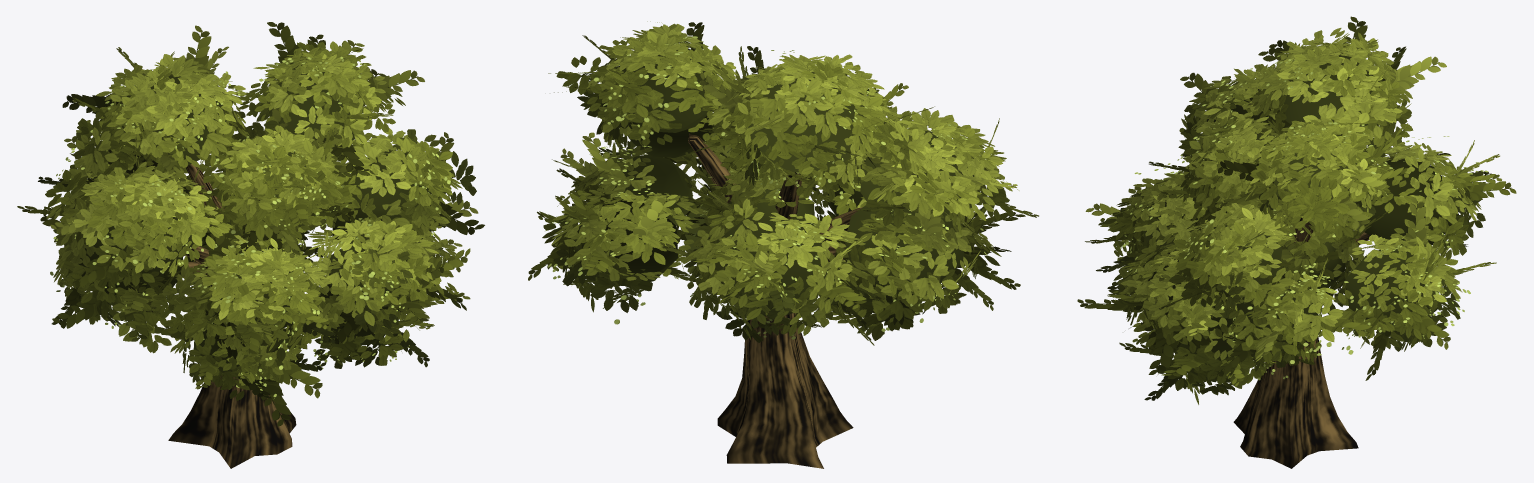
Rendered from AraTree06.glb.
3 views of the same model, side by side, from view 1: azimuth 30°, elevation 25°; view 2: azimuth 150°, elevation 25°; view 3: azimuth 270°, elevation 25° (orthographic). The views are drawn at different scales.
Visible parts, largest first — view 1: AraTree06_leaves; view 2: AraTree06_leaves; view 3: AraTree06_leaves.
Boxes of the visible parts, box(x1,y1,x2,y2) form: AraTree06_leaves: box(17, 22, 484, 468); AraTree06_leaves: box(528, 21, 1038, 468); AraTree06_leaves: box(1077, 16, 1516, 468).
Bounding box in the file's own units: 8.37 × 7.04 × 7.41.
3 materials, 2 textured.
